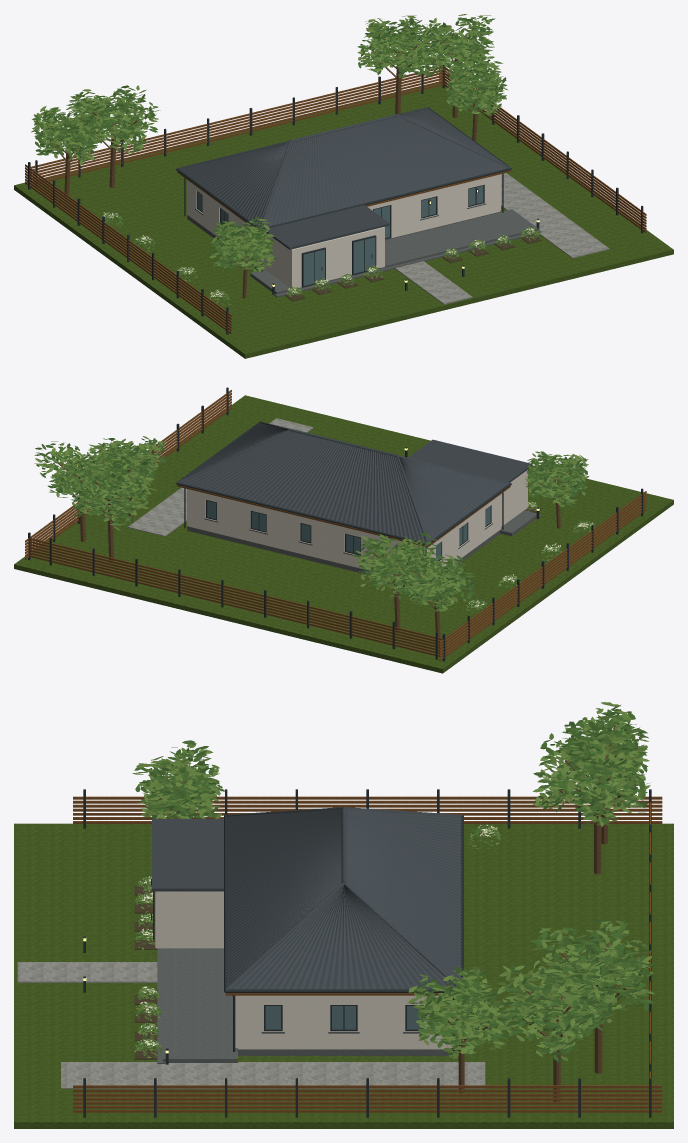
The model's file is casa-05.glb.
The picture shows the model from 3 angles, top to bottom: view 1: azimuth 30°, elevation 25°; view 2: azimuth 150°, elevation 25°; view 3: azimuth 270°, elevation 25°; orthographic projection. The views are drawn at different scales.
Parts seen in each view (by area): view 1: landscape_grass.004, architecture_roof.003, landscape_wood.004, landscape_leaf-light.004, landscape_leaf.004, architecture_stucco.003, landscape_stone.004, landscape_paving.004, architecture_glass.004, architecture_metal.004, landscape_metal.004, landscape_trunk.004 (+2 smaller); view 2: landscape_grass.004, architecture_roof.003, landscape_wood.004, landscape_leaf.004, landscape_leaf-light.004, architecture_stucco.003, architecture_metal.004, landscape_metal.004, landscape_paving.004, landscape_trunk.004, architecture_stone.004, architecture_glass.004 (+2 smaller); view 3: landscape_grass.004, architecture_roof.003, landscape_wood.004, landscape_leaf-light.004, landscape_leaf.004, landscape_paving.004, architecture_stucco.003, landscape_stone.004, architecture_metal.004, landscape_metal.004, landscape_trunk.004, architecture_stone.004 (+2 smaller).
Boxes of the visible parts, bbox=[...] form: landscape_grass.004: bbox=[14, 83, 673, 358]; architecture_roof.003: bbox=[177, 107, 510, 249]; landscape_wood.004: bbox=[25, 66, 646, 333]; landscape_leaf-light.004: bbox=[31, 14, 538, 304]; landscape_leaf.004: bbox=[32, 15, 539, 306]; architecture_stucco.003: bbox=[187, 174, 500, 287]; landscape_stone.004: bbox=[250, 209, 541, 297]; landscape_paving.004: bbox=[395, 173, 609, 304]; architecture_glass.004: bbox=[197, 185, 483, 285]; architecture_metal.004: bbox=[176, 107, 511, 287]; landscape_metal.004: bbox=[28, 65, 643, 334]; landscape_trunk.004: bbox=[49, 30, 492, 298]; landscape_grass.004: bbox=[14, 395, 673, 673]; architecture_roof.003: bbox=[177, 421, 532, 542]; landscape_wood.004: bbox=[25, 390, 646, 660]; landscape_leaf.004: bbox=[34, 438, 594, 613]; landscape_leaf-light.004: bbox=[35, 436, 595, 613]; architecture_stucco.003: bbox=[187, 470, 527, 575]; architecture_metal.004: bbox=[176, 422, 511, 560]; landscape_metal.004: bbox=[28, 387, 643, 661]; landscape_paving.004: bbox=[128, 418, 313, 536]; landscape_trunk.004: bbox=[57, 457, 573, 643]; architecture_stone.004: bbox=[187, 518, 499, 585]; architecture_glass.004: bbox=[207, 501, 490, 561]; landscape_grass.004: bbox=[14, 823, 673, 1128]; architecture_roof.003: bbox=[152, 806, 462, 990]; landscape_wood.004: bbox=[73, 796, 662, 1112]; landscape_leaf-light.004: bbox=[132, 702, 654, 1060]; landscape_leaf.004: bbox=[133, 705, 655, 1063]; landscape_paving.004: bbox=[17, 962, 485, 1088]; architecture_stucco.003: bbox=[155, 891, 452, 1049]; landscape_stone.004: bbox=[157, 948, 237, 1063]; architecture_metal.004: bbox=[151, 815, 463, 1052]; landscape_metal.004: bbox=[83, 789, 651, 1117]; landscape_trunk.004: bbox=[167, 725, 626, 1101]; architecture_stone.004: bbox=[236, 1032, 451, 1055].
Bounding box in the file's own units: 31.36 × 6.78 × 28.
Materials: 16 (5 with a texture image).
